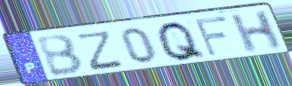0: (120, 26, 160, 66)
B: (34, 33, 87, 78)
F: (193, 14, 231, 59)
H: (228, 8, 284, 55)
Q: (155, 20, 209, 63)
Z: (77, 29, 125, 72)
